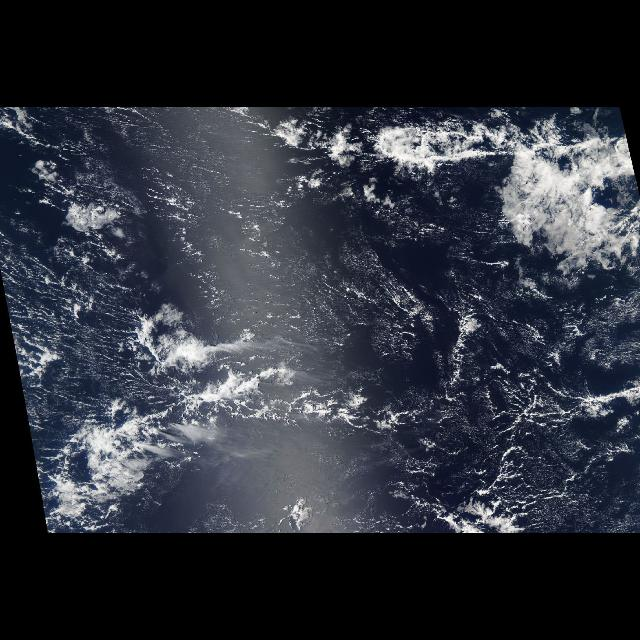Fish: (16, 326, 414, 507)
Gravel: (12, 233, 640, 412)
Sugar: (165, 163, 417, 337)
